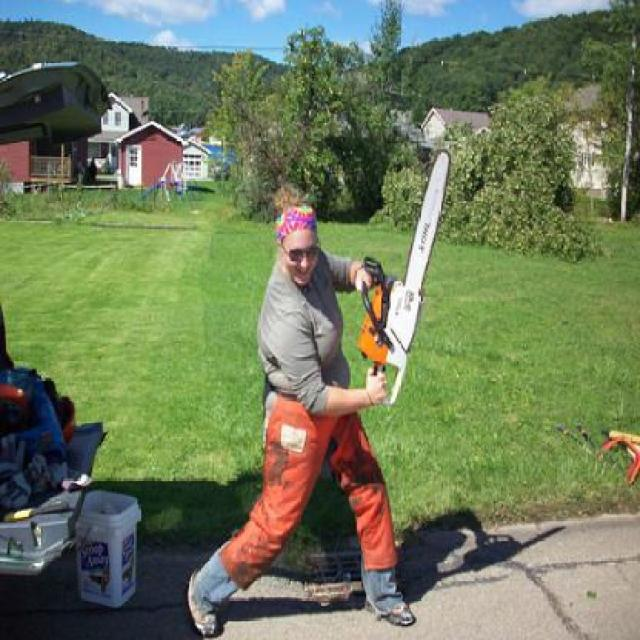Chainsaw: (351, 148, 455, 417)
